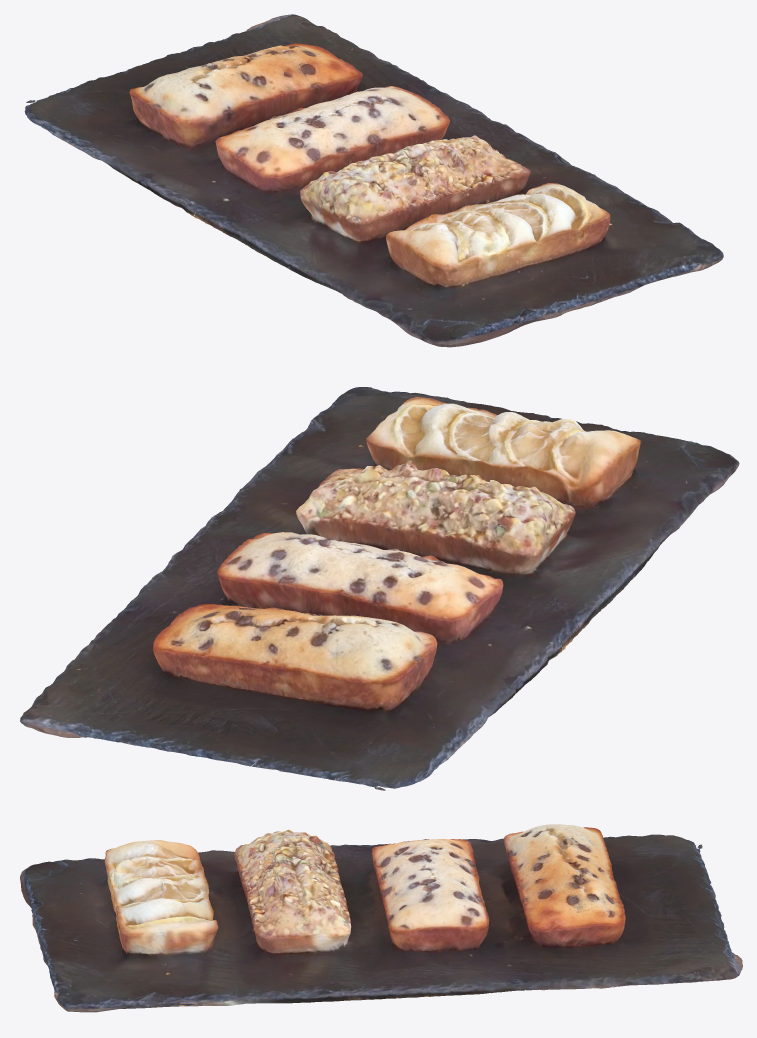
File: 4ta.keik.mostatili.final.glb
3 renders of one model, top to bottom at view 1: azimuth 30°, elevation 25°; view 2: azimuth 150°, elevation 25°; view 3: azimuth 270°, elevation 25°, orthographic. The views are drawn at different scales.
Parts seen in each view (by area): view 1: object 1; view 2: object 1; view 3: object 1.
Part boxes in pixels (box(x1,y1,x2,y2)): object 1: box(24, 14, 723, 347); object 1: box(20, 387, 739, 790); object 1: box(20, 824, 742, 1012).
Size of the model in its own units: 0.192 by 0.0344 by 0.3223.
Materials: 2 (1 with a texture image).
